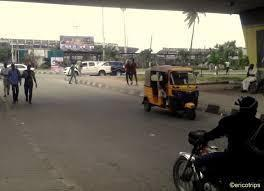keke: (142, 64, 198, 118)
